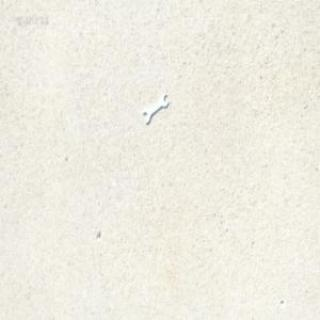Wrenchtrack_idkeyframe: (140, 92, 168, 124)
